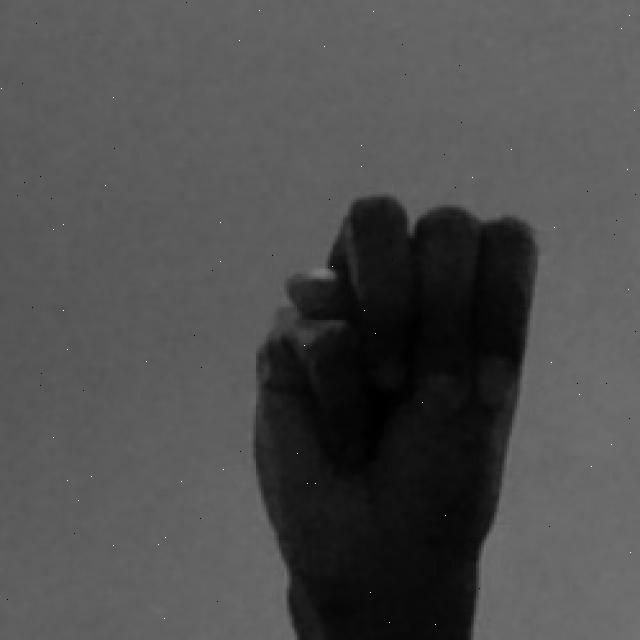M: (250, 186, 546, 640)
